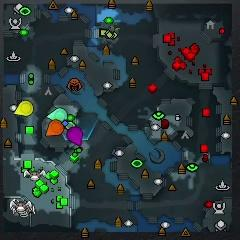p2: (48, 109, 68, 123)
p3: (67, 127, 83, 146)
p4: (14, 101, 34, 115)
p5: (46, 120, 63, 136)
